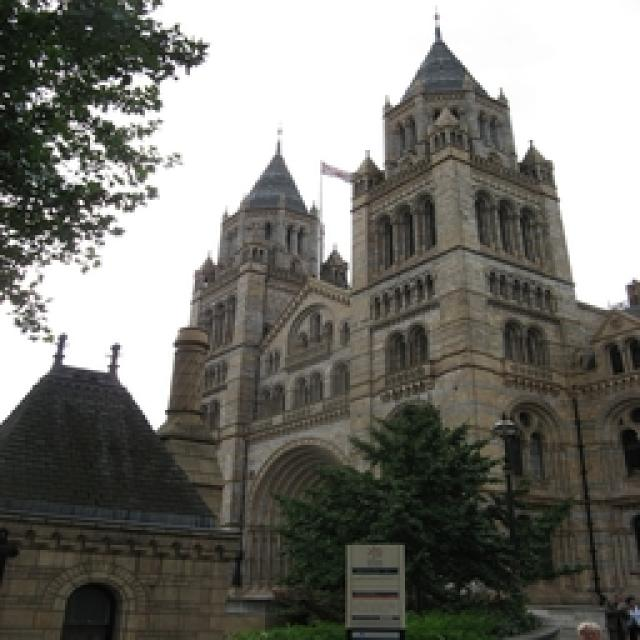Abbey: (134, 42, 590, 591)
